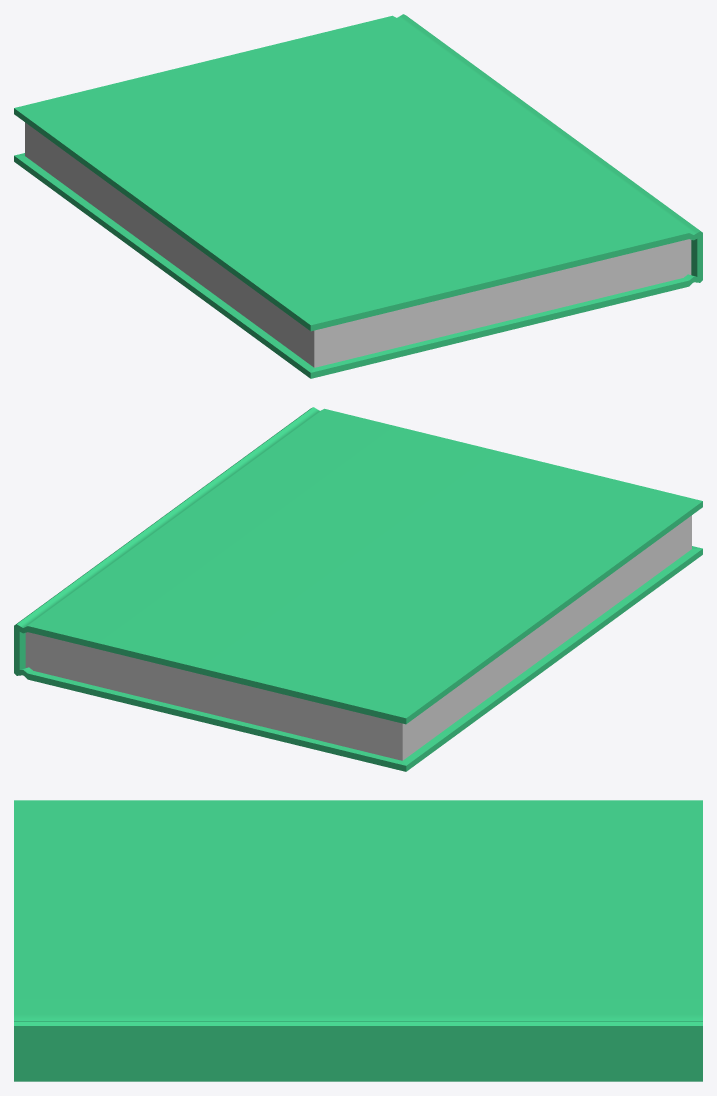
Rendered from BgMD_book2 (2).fbx.
3 views of the same model, one above another, from view 1: azimuth 30°, elevation 25°; view 2: azimuth 150°, elevation 25°; view 3: azimuth 270°, elevation 25° (orthographic). The views are drawn at different scales.
Parts seen in each view (by area): view 1: Bg_Book1; view 2: Bg_Book1; view 3: Bg_Book1.
Boxes of the visible parts, x1=… form: Bg_Book1: x1=14, y1=14, x2=702, y2=378; Bg_Book1: x1=14, y1=407, x2=702, y2=771; Bg_Book1: x1=14, y1=800, x2=702, y2=1081.
Size of the model in its own units: 14.8 by 1.93 by 19.4.
Materials: 1 (1 with a texture image).
